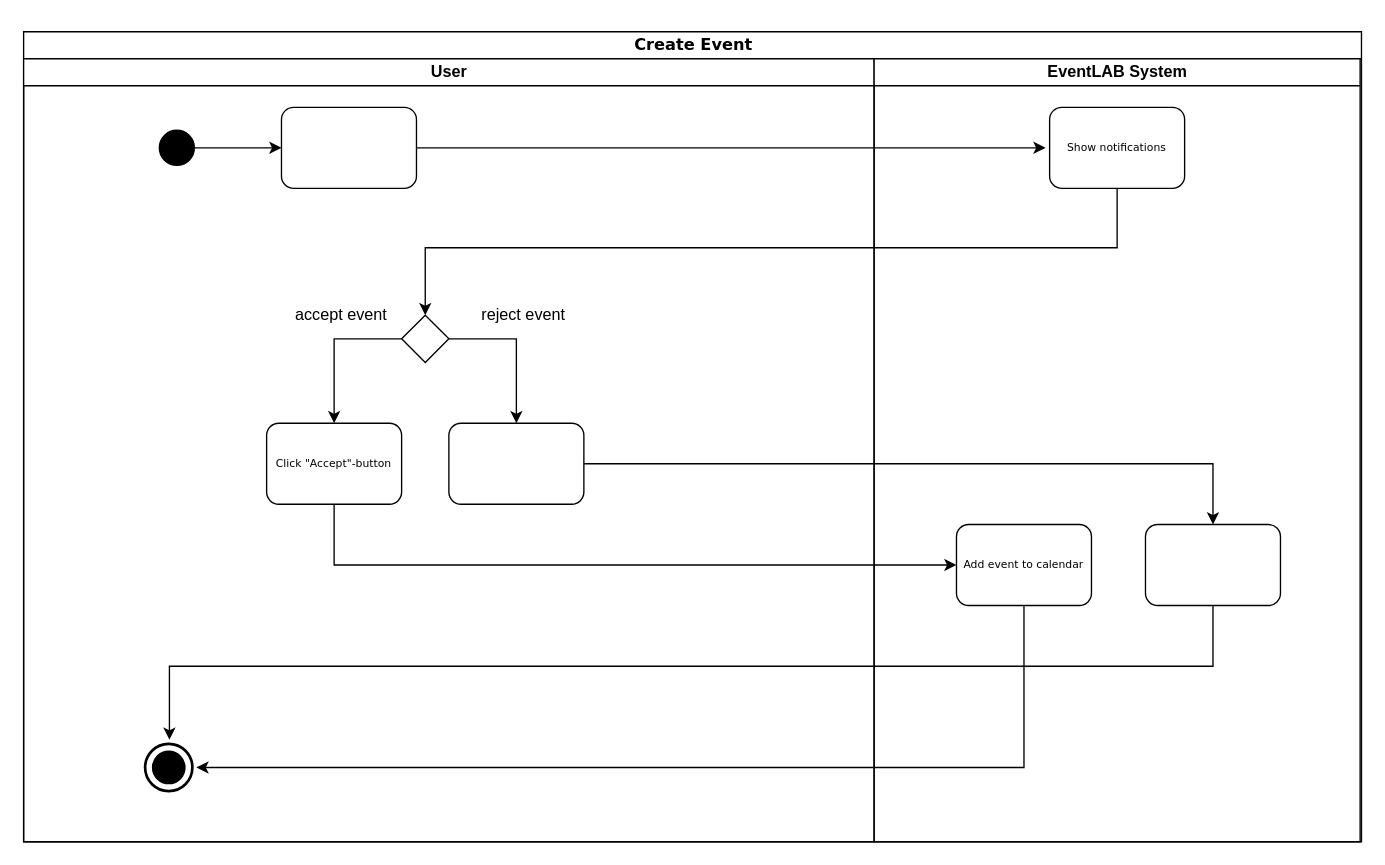
Some shapes in this 1385 by 865 pixel diagram are drawn without their labels. Here are the shapes that lost their labels. From the top down, the centre of each, then its label:
point 348,147: Click "Notification" icon
point 516,463: Click "Reject" button
point 1212,564: Delete notification
